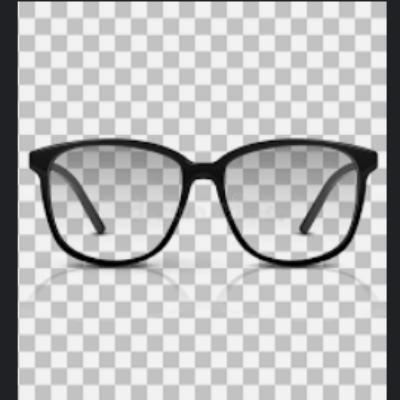glasses: (25, 132, 385, 278)
